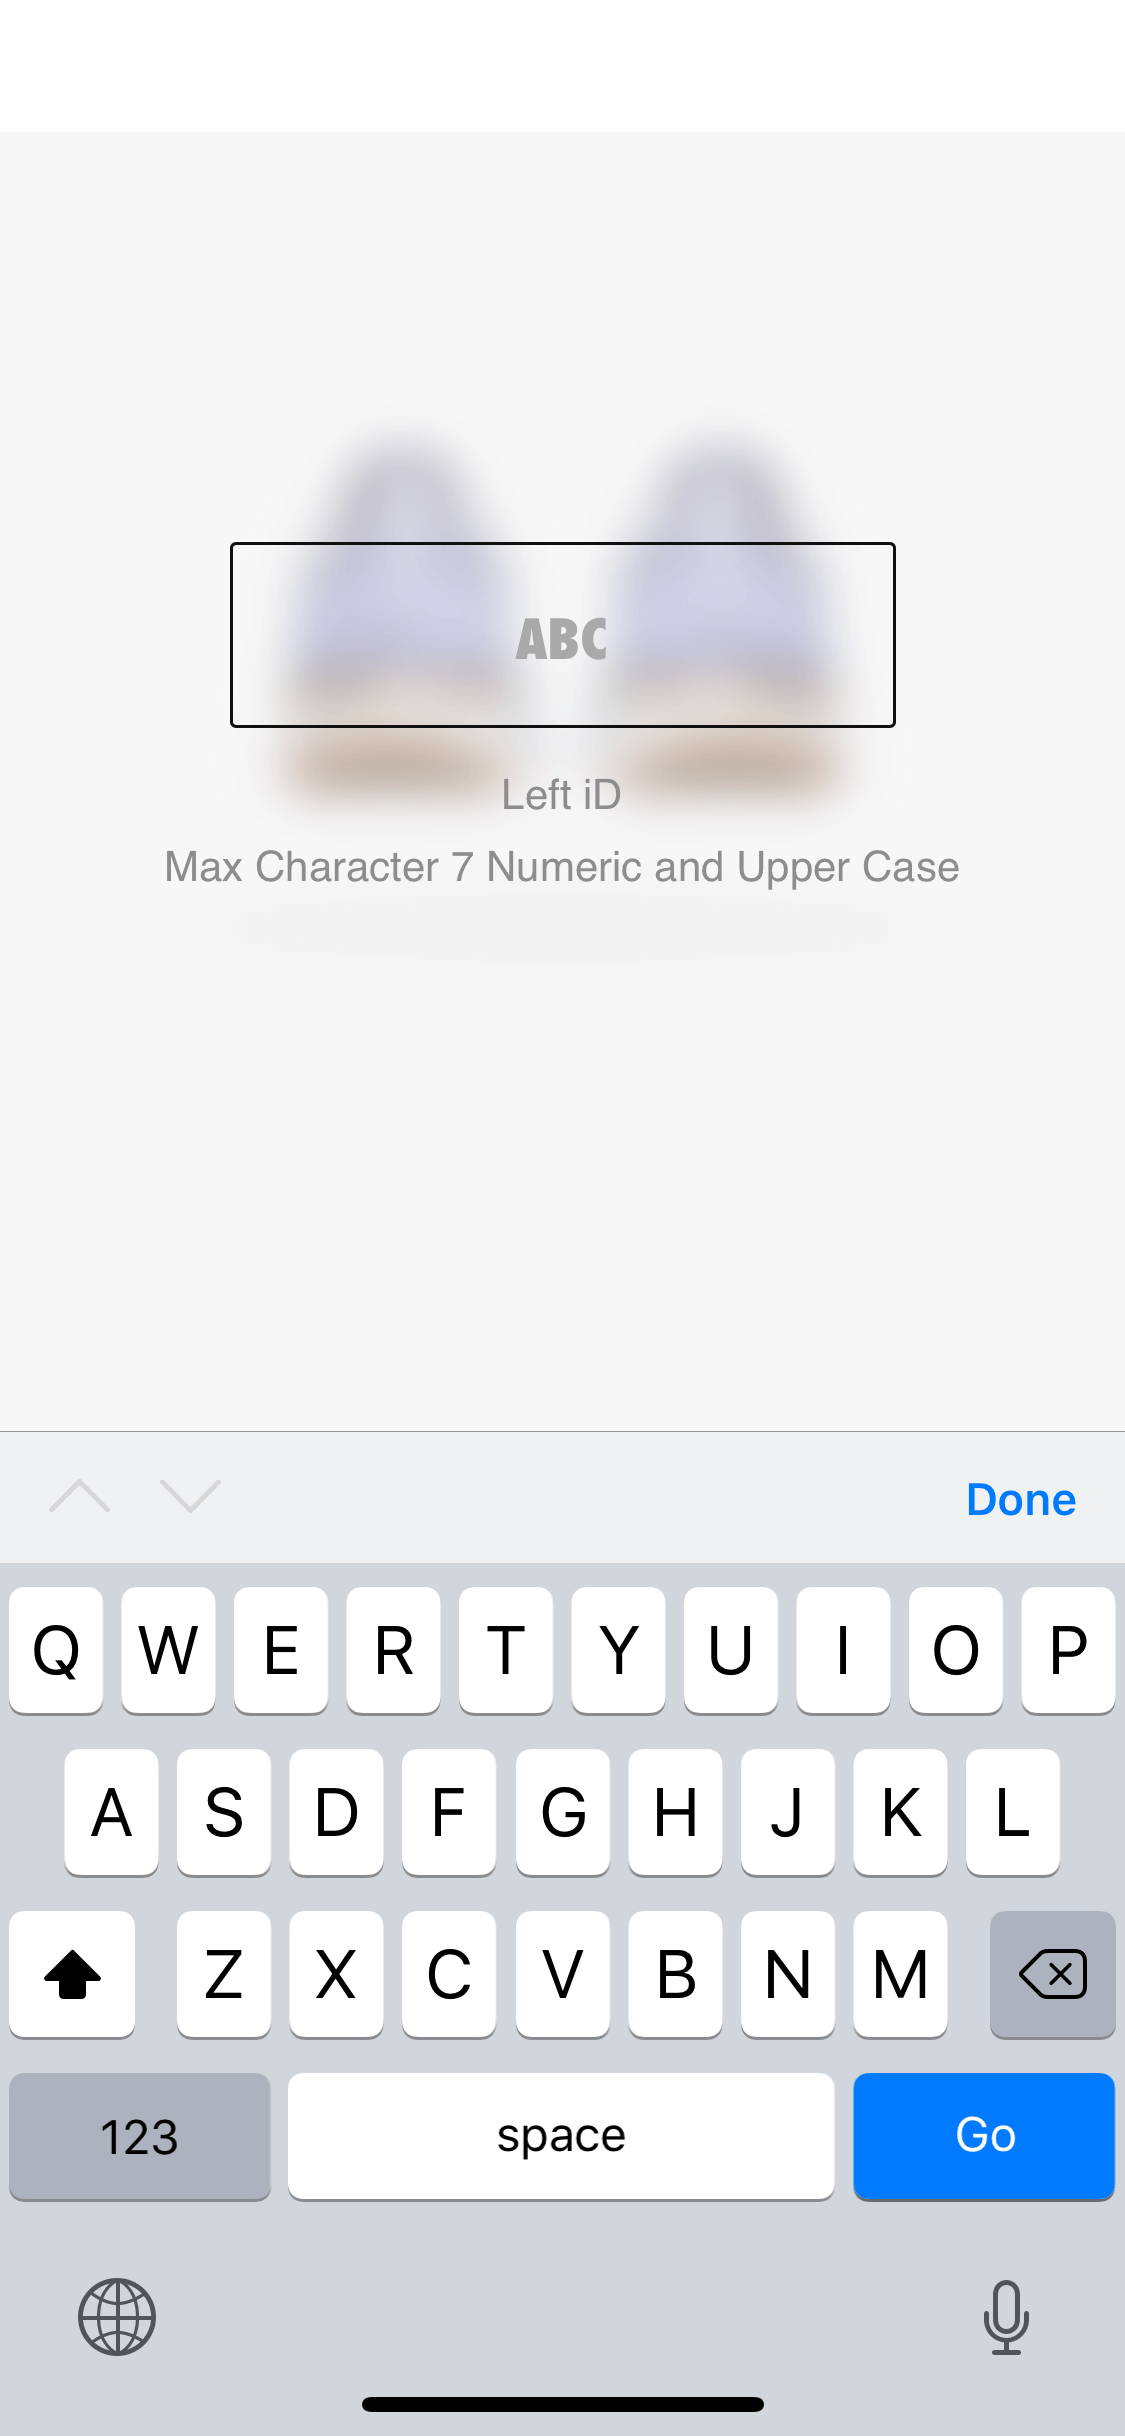Text Fields: (210, 514, 906, 747)
